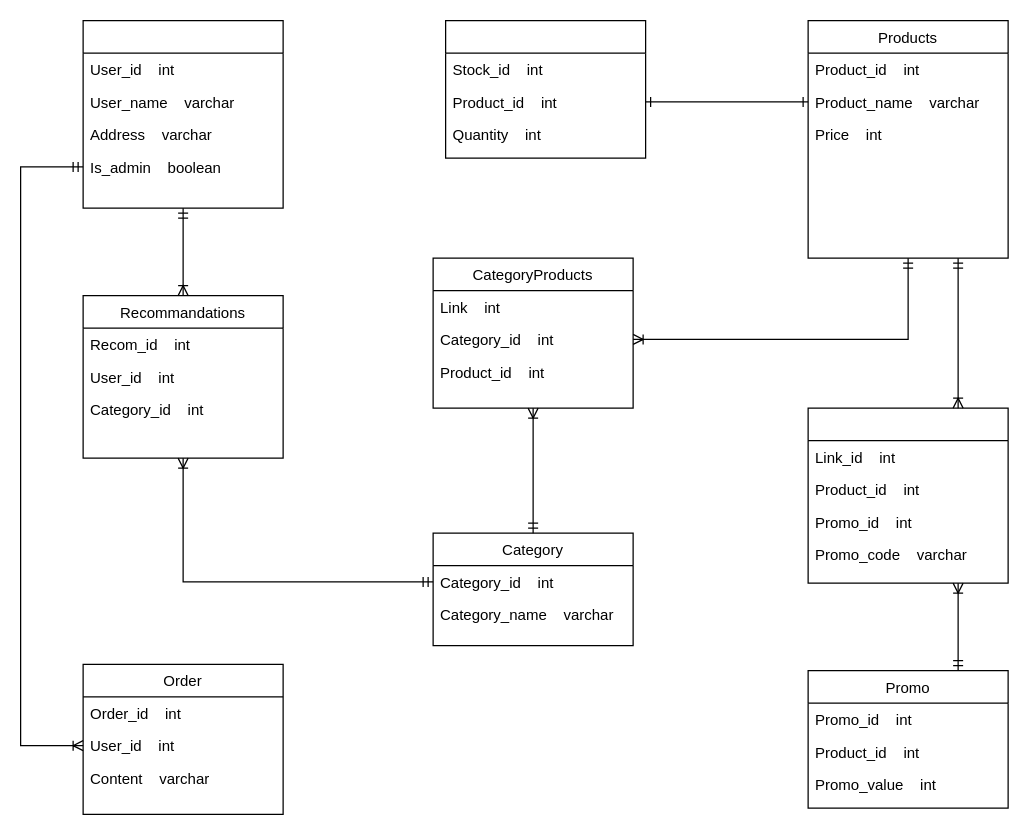
Some shapes in this 1029 by 835 pixel diagram are drawn without their labels. Each missing label, with the box of its shape:
ProductPromo: (807, 407, 1008, 583)
Stocks: (444, 19, 646, 158)
Users: (82, 19, 283, 208)
